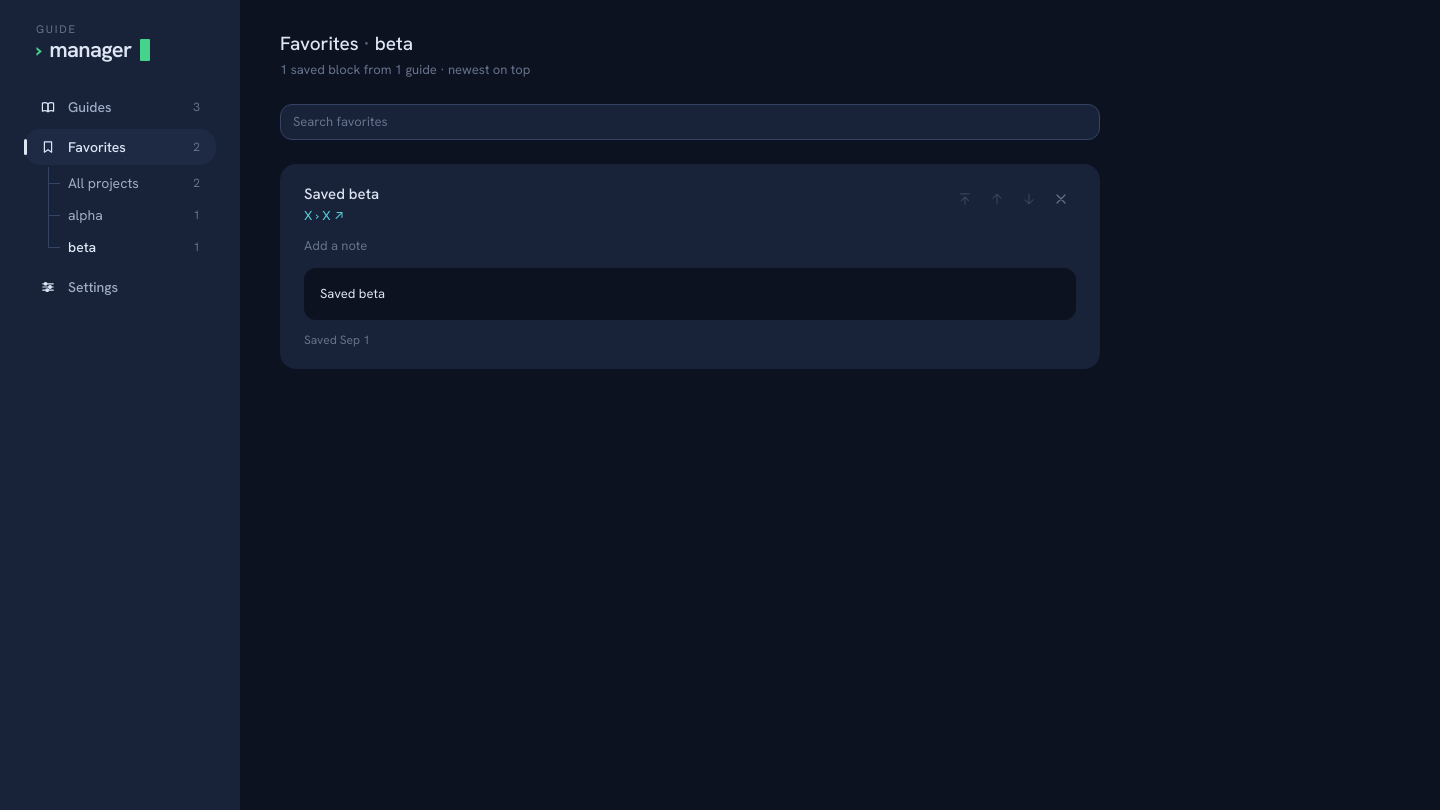
it: App — the rail owns the project scope › fails open to All projects when the scoped project loses its last favorite, keeping the stored name
The image size is (1440, 810).
Expected: the button "Saved beta" is shown, [304, 184, 379, 204]
Expected: the button with class "rail-sublink" showing "beta 1" is shown, [48, 231, 216, 263]
Step 1. Click the button named "Remove" → (1061, 198), box [1046, 184, 1076, 214]
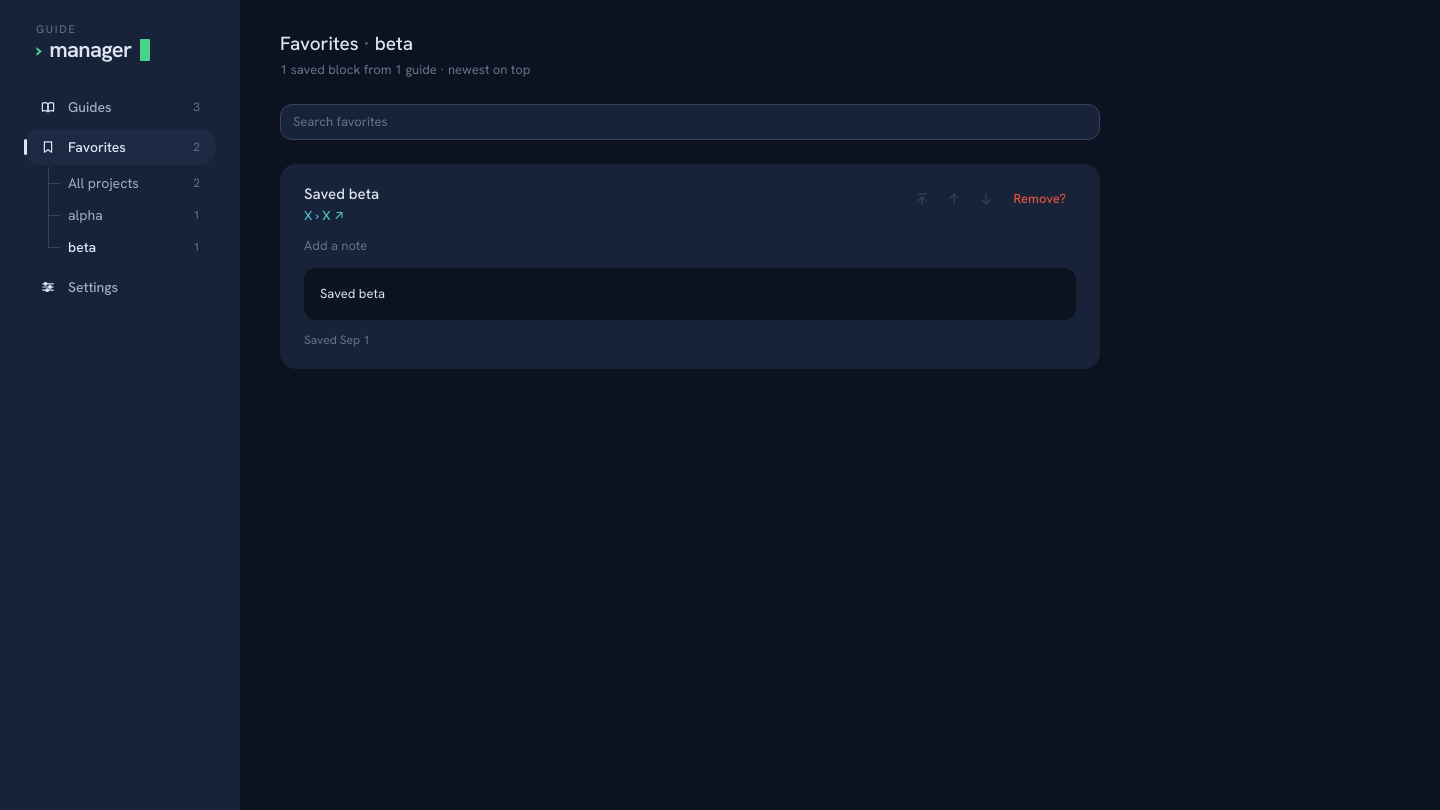
Step 2. Click the button with aria-label "Confirm remove" → (1040, 198), box [1004, 184, 1076, 214]
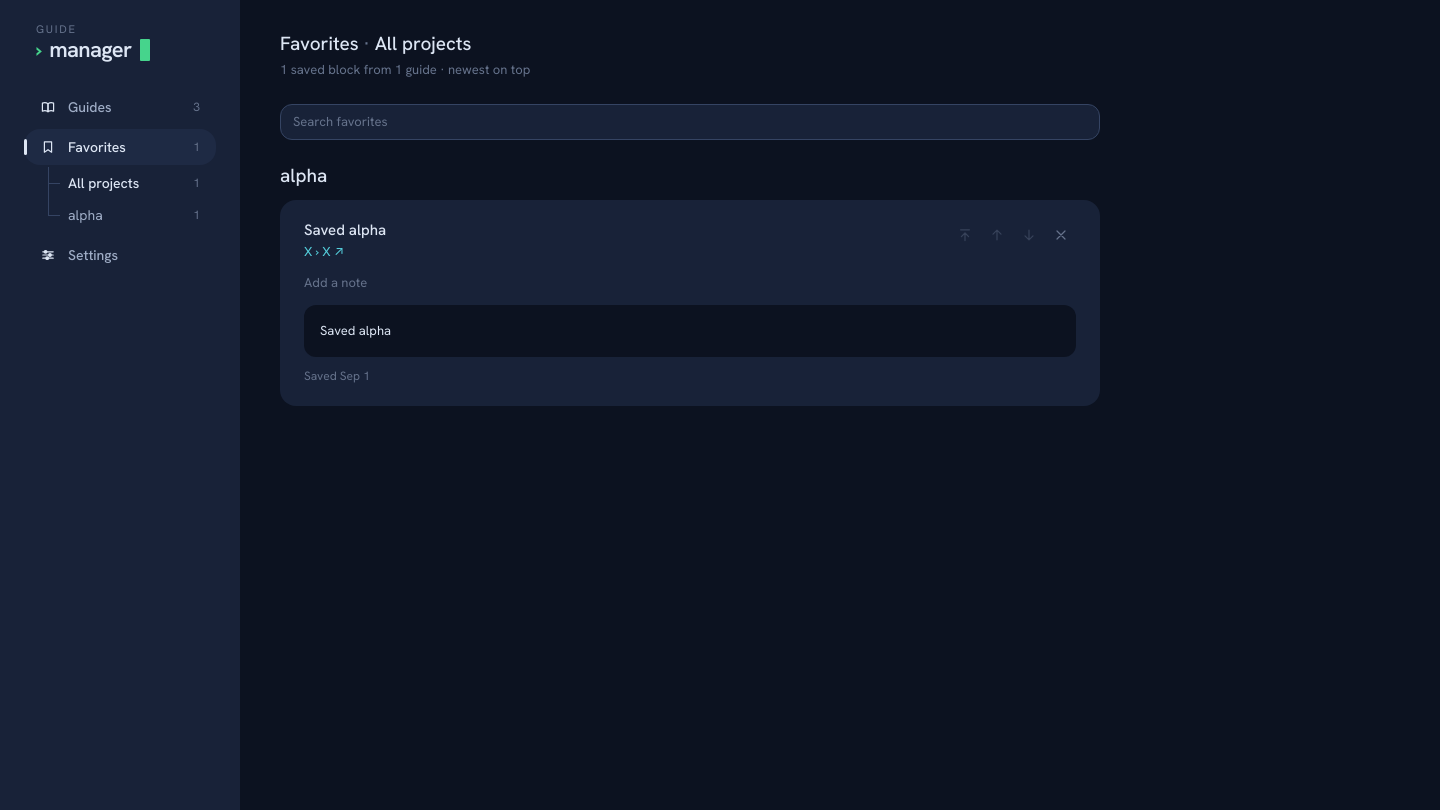
Expected: the text with class "rail-sublabel" reads "All projects", [68, 174, 139, 192]
Now the heading "Favorites · All projects" is shown, box [280, 31, 472, 56]
